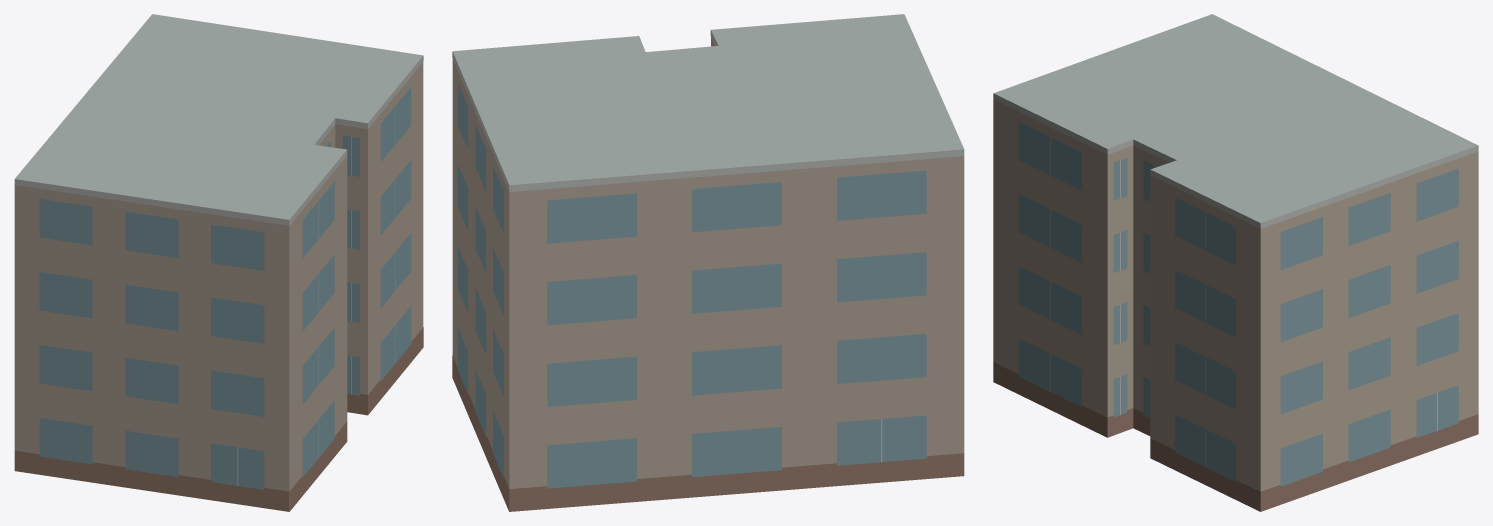
The model's file is survey-upis-32965883.glb.
3 renders of one model, left to right at view 1: azimuth 30°, elevation 25°; view 2: azimuth 150°, elevation 25°; view 3: azimuth 270°, elevation 25°, orthographic. The views are drawn at different scales.
Parts seen in each view (by area): view 1: survey-upis-32965883.tmp; view 2: survey-upis-32965883.tmp; view 3: survey-upis-32965883.tmp.
Boxes of the visible parts, bbox=[...] form: survey-upis-32965883.tmp: bbox=[14, 14, 423, 511]; survey-upis-32965883.tmp: bbox=[452, 14, 964, 511]; survey-upis-32965883.tmp: bbox=[993, 14, 1478, 511].
Size of the model in its own units: 18.52 by 11.92 by 18.15.
